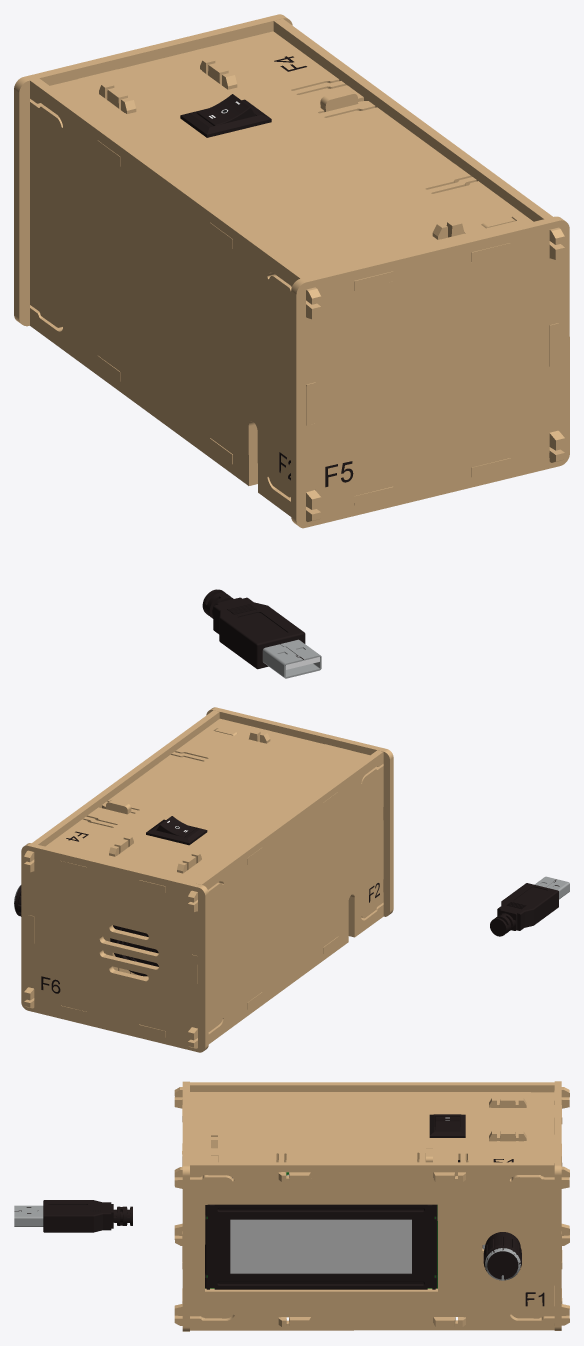
3 renders of one model, top to bottom at view 1: azimuth 30°, elevation 25°; view 2: azimuth 150°, elevation 25°; view 3: azimuth 270°, elevation 25°, orthographic. The views are drawn at different scales.
Parts seen in each view (by area): view 1: F2, F5, NAUO50, F6, NAUO10, USBCableend, NAUO46, NAUO2; view 2: F2, F6, NAUO50, F5, NAUO10, USBCableend, NAUO46, NAUO2, NAUO62; view 3: NAUO10, NAUO50, NAUO187, NAUO186, F2, USBCableend, F5, F6, NAUO13, NAUO46, NAUO2, NAUO43 (+1 smaller).
Part boxes in pixels (box(x1,y1,x2,y2)): F2: box(30, 78, 321, 521); F5: box(291, 216, 569, 528); NAUO50: box(50, 31, 533, 290); F6: box(14, 14, 292, 326); NAUO10: box(273, 18, 564, 462); USBCableend: box(202, 589, 321, 678); NAUO46: box(180, 94, 271, 137); NAUO2: box(97, 355, 510, 505); F2: box(187, 750, 383, 1048); F6: box(21, 843, 208, 1052); NAUO50: box(45, 718, 369, 892); F5: box(206, 707, 393, 916); NAUO10: box(24, 710, 219, 1008); USBCableend: box(490, 876, 569, 936); NAUO46: box(146, 816, 207, 845); NAUO2: box(60, 936, 338, 1037); NAUO62: box(110, 925, 158, 976); NAUO10: box(174, 1162, 569, 1330); NAUO50: box(182, 1092, 562, 1181); NAUO187: box(205, 1172, 437, 1289); NAUO186: box(230, 1219, 411, 1273); F2: box(174, 1082, 569, 1245); USBCableend: box(14, 1200, 132, 1232); F5: box(182, 1081, 189, 1331); F6: box(554, 1081, 561, 1330); NAUO13: box(483, 1232, 521, 1280); NAUO46: box(429, 1114, 465, 1162); NAUO2: box(182, 1250, 562, 1326); NAUO43: box(489, 1130, 526, 1178).
Size of the model in its own units: 149 by 87.4 by 232.
